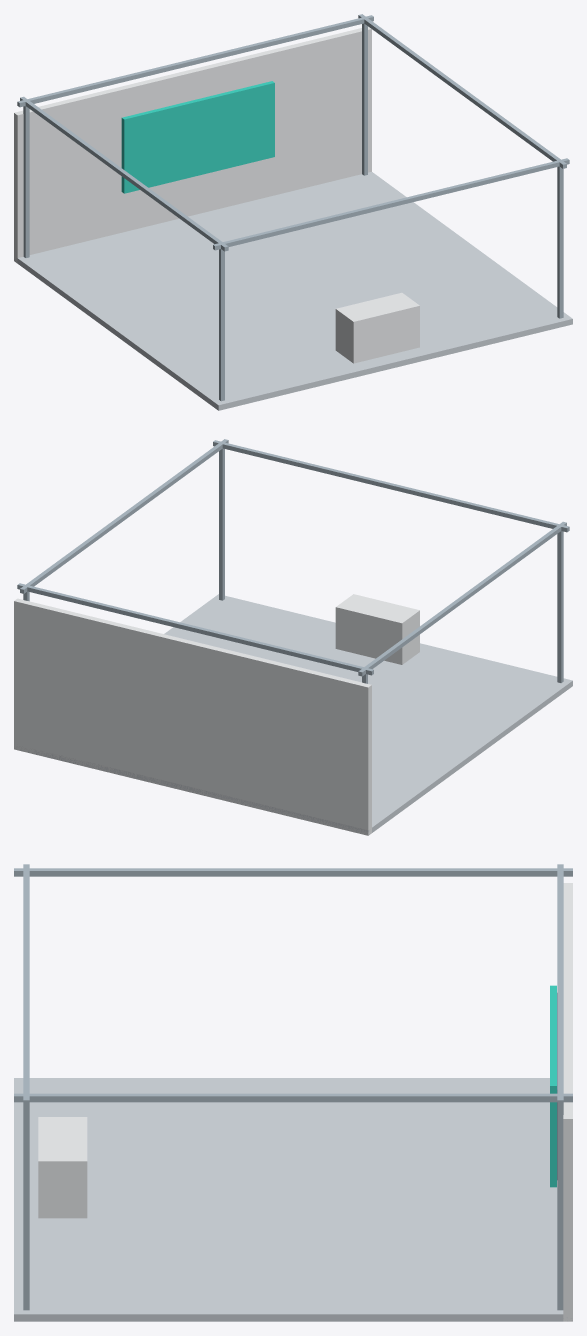
The picture shows the model from 3 angles, top to bottom: view 1: azimuth 30°, elevation 25°; view 2: azimuth 150°, elevation 25°; view 3: azimuth 270°, elevation 25°; orthographic projection. The views are drawn at different scales.
Visible parts, largest first — view 1: Exhibition Booth Concept; view 2: Exhibition Booth Concept; view 3: Exhibition Booth Concept.
Part boxes in pixels (box(x1,y1,x2,y2)): Exhibition Booth Concept: box(14, 14, 572, 410); Exhibition Booth Concept: box(14, 439, 572, 835); Exhibition Booth Concept: box(14, 864, 572, 1321).
Bounding box in the file's own units: 8 × 3.49 × 8.
